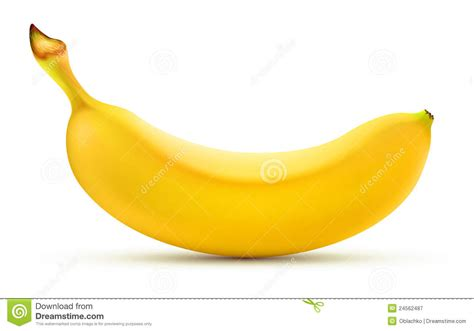banana: (51, 87, 439, 265)
